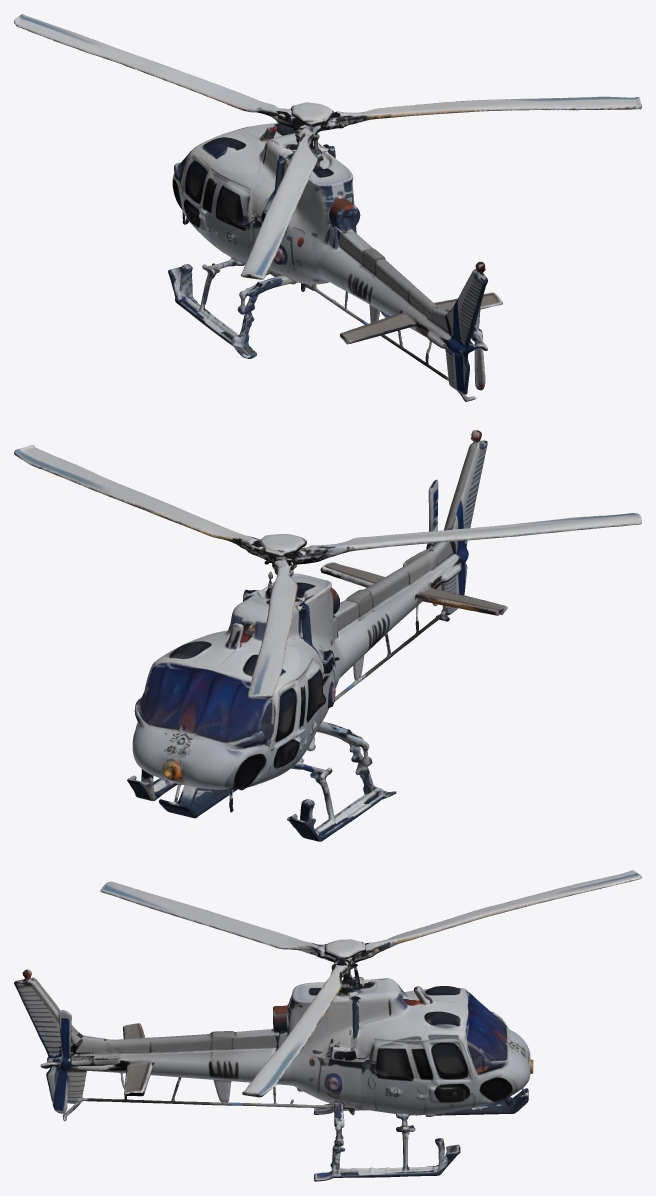
The picture shows the model from 3 angles, top to bottom: view 1: azimuth 30°, elevation 25°; view 2: azimuth 150°, elevation 25°; view 3: azimuth 270°, elevation 25°; orthographic projection. The views are drawn at different scales.
Parts seen in each view (by area): view 1: tripo_node_476478c0-8895-43f3-97d1-c3bd425c2d2a; view 2: tripo_node_476478c0-8895-43f3-97d1-c3bd425c2d2a; view 3: tripo_node_476478c0-8895-43f3-97d1-c3bd425c2d2a.
Part boxes in pixels (x1,y1,x2,y2): tripo_node_476478c0-8895-43f3-97d1-c3bd425c2d2a: (14, 14, 641, 401); tripo_node_476478c0-8895-43f3-97d1-c3bd425c2d2a: (14, 430, 641, 841); tripo_node_476478c0-8895-43f3-97d1-c3bd425c2d2a: (14, 870, 641, 1181).
Bounding box in the file's own units: 0.8167 × 0.3774 × 1.
Materials: 1 (1 with a texture image).
